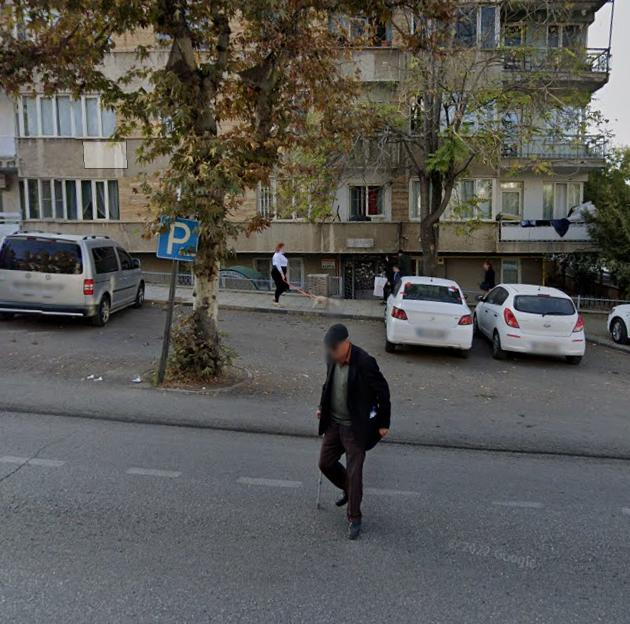park: (159, 215, 198, 259)
